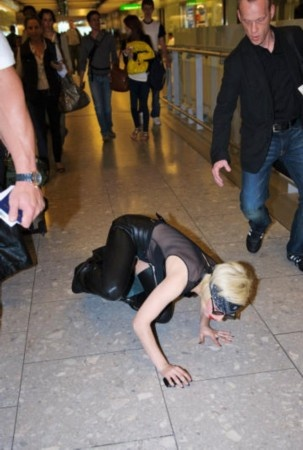falling: (67, 201, 265, 395)
